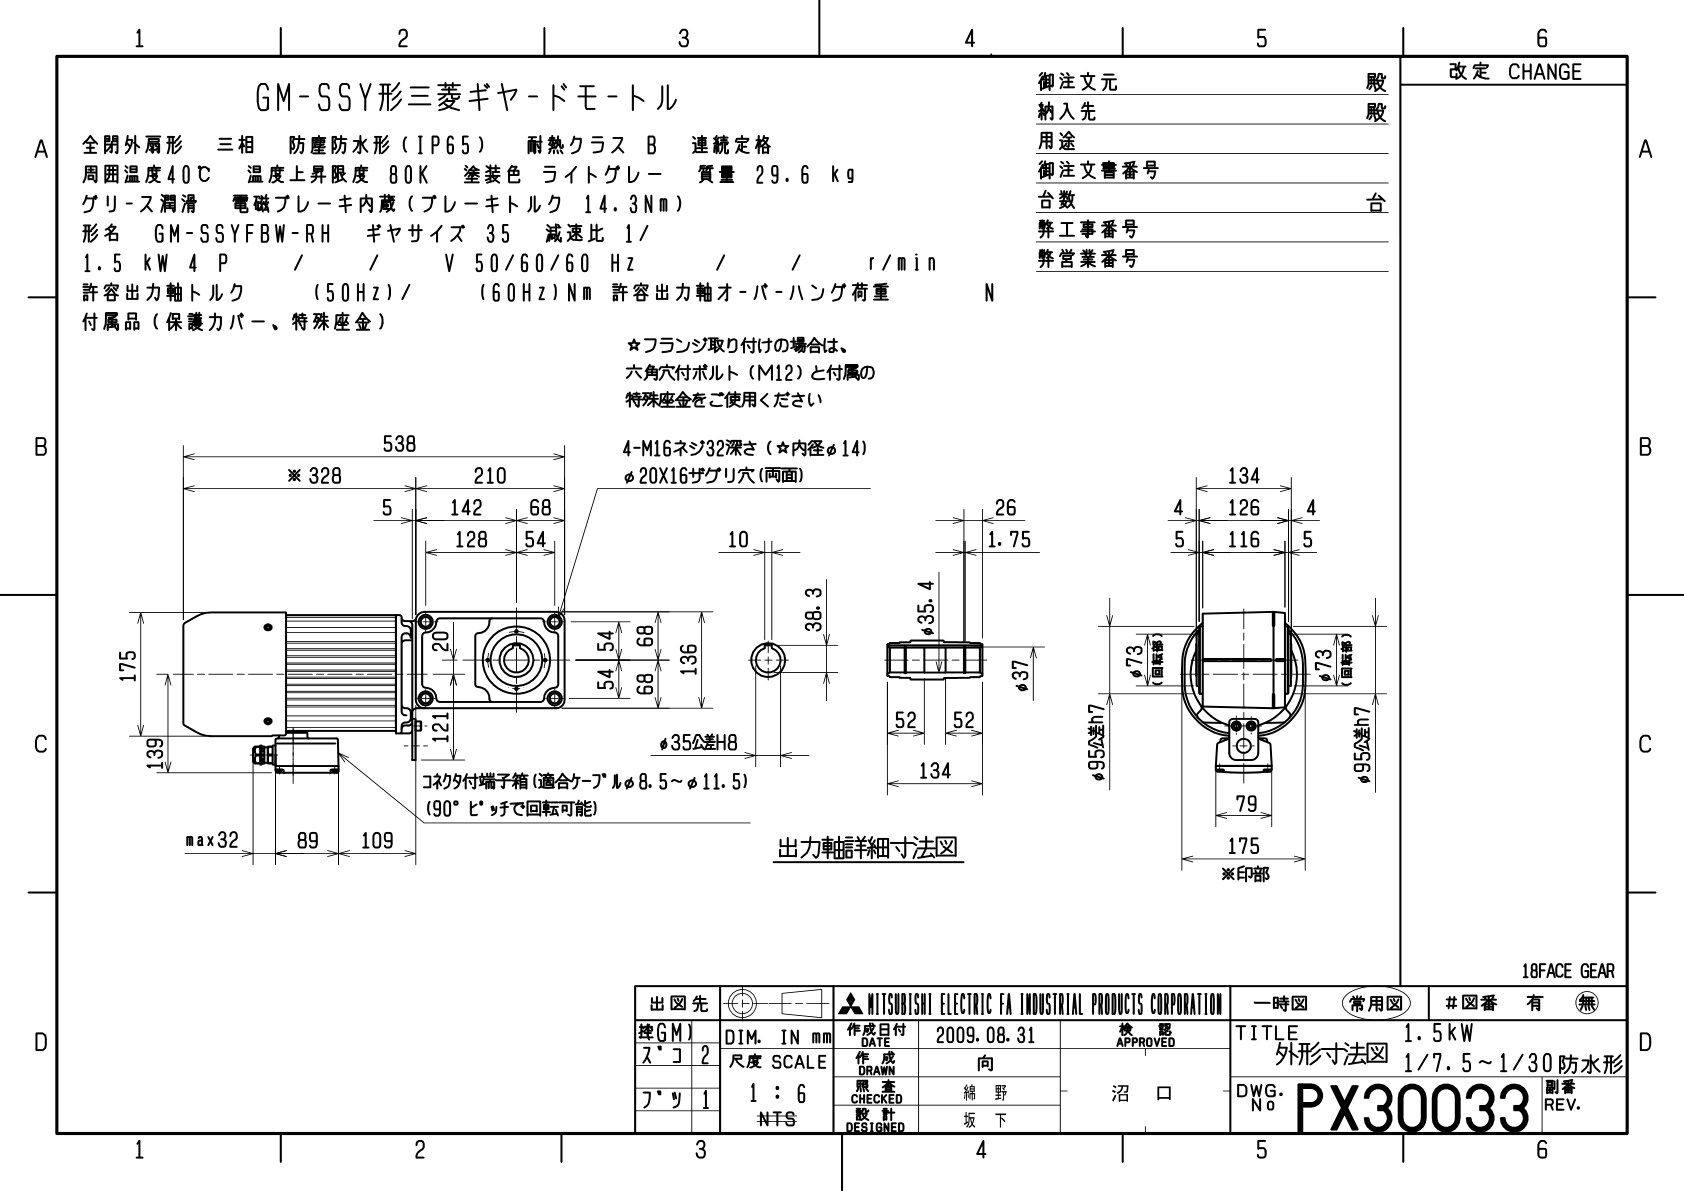GM_SSY_IP65_三相: (73, 336, 1385, 941)
